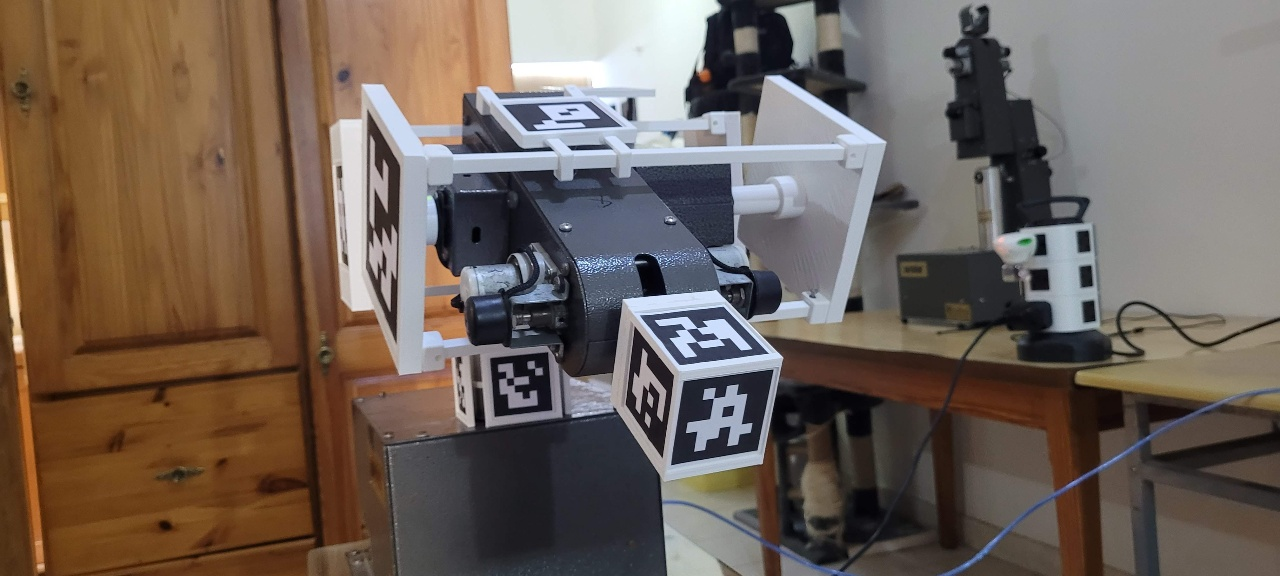Robot: (348, 3, 750, 576)
